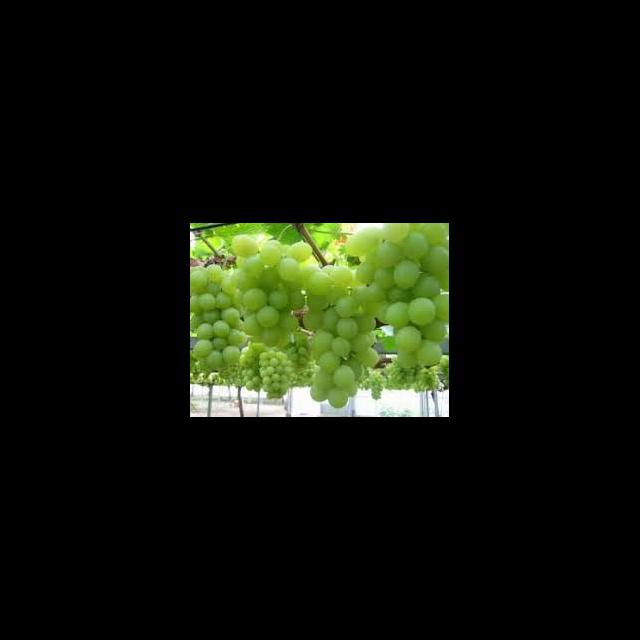grape: (190, 223, 448, 408), (349, 223, 444, 364), (297, 269, 368, 401), (226, 230, 298, 341), (190, 269, 247, 375)
